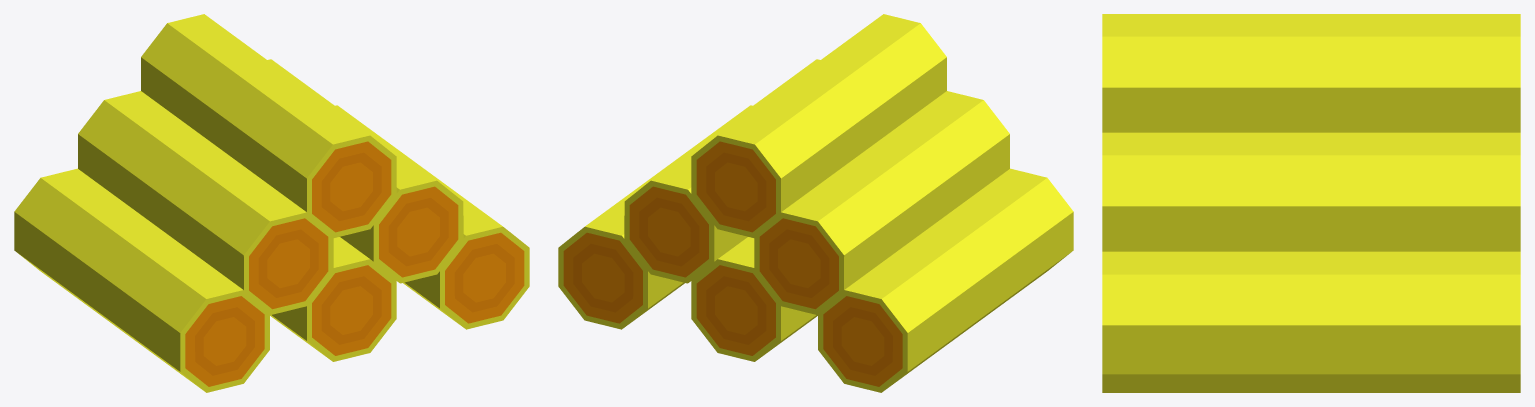
The model's file is Small Log_19.fbx.
The picture shows the model from 3 angles, left to right: view 1: azimuth 30°, elevation 25°; view 2: azimuth 150°, elevation 25°; view 3: azimuth 270°, elevation 25°; orthographic projection. The views are drawn at different scales.
Parts seen in each view (by area): view 1: Circle.359; view 2: Circle.359; view 3: Circle.359.
Boxes of the visible parts, x1=… form: Circle.359: x1=14, y1=14, x2=529, y2=392; Circle.359: x1=558, y1=14, x2=1073, y2=392; Circle.359: x1=1102, y1=14, x2=1520, y2=392.
Size of the model in its own units: 28.63 by 17.04 by 23.54.
